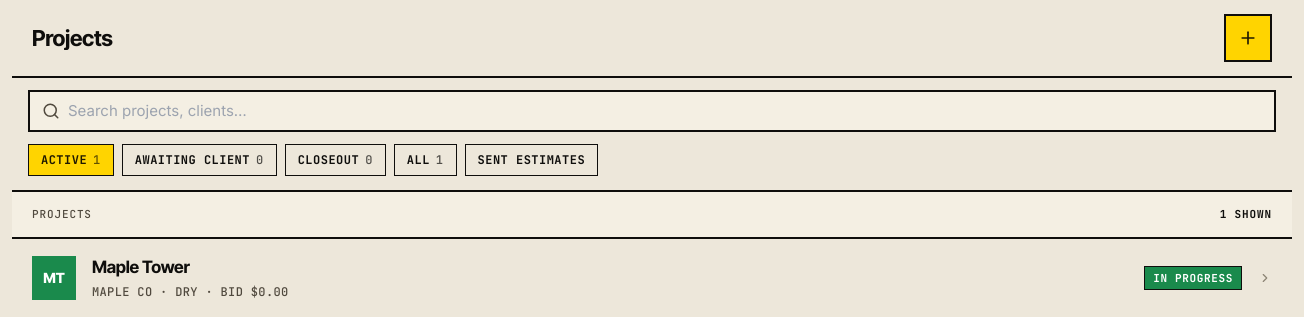
Test: MobileProjectsList render-smoke › shows the no-match message when the filter excludes every project
The image size is (1304, 317).
# Switch to the "Closeout" filter — the lone in_progress project drops out.
Step 1. Click the button "Closeout 0" → {"x": 335, "y": 160}, box x1=285 y1=144 x2=386 y2=176
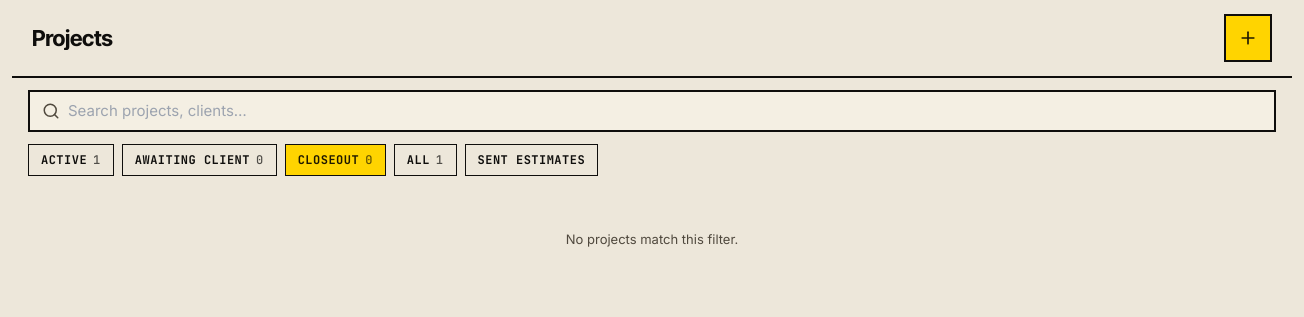
Result: the text "No projects match this filter." is shown at x1=566 y1=231 x2=738 y2=247
